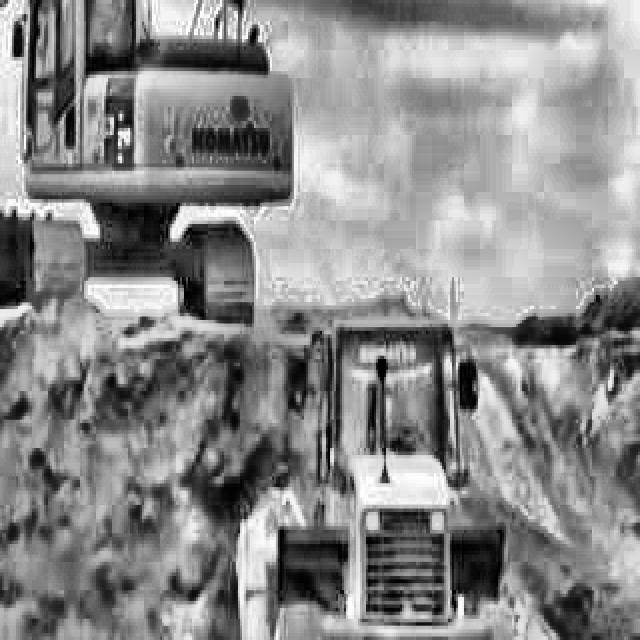buldozerpayloadergrader: (234, 284, 516, 640)
excavator: (0, 0, 296, 324)
